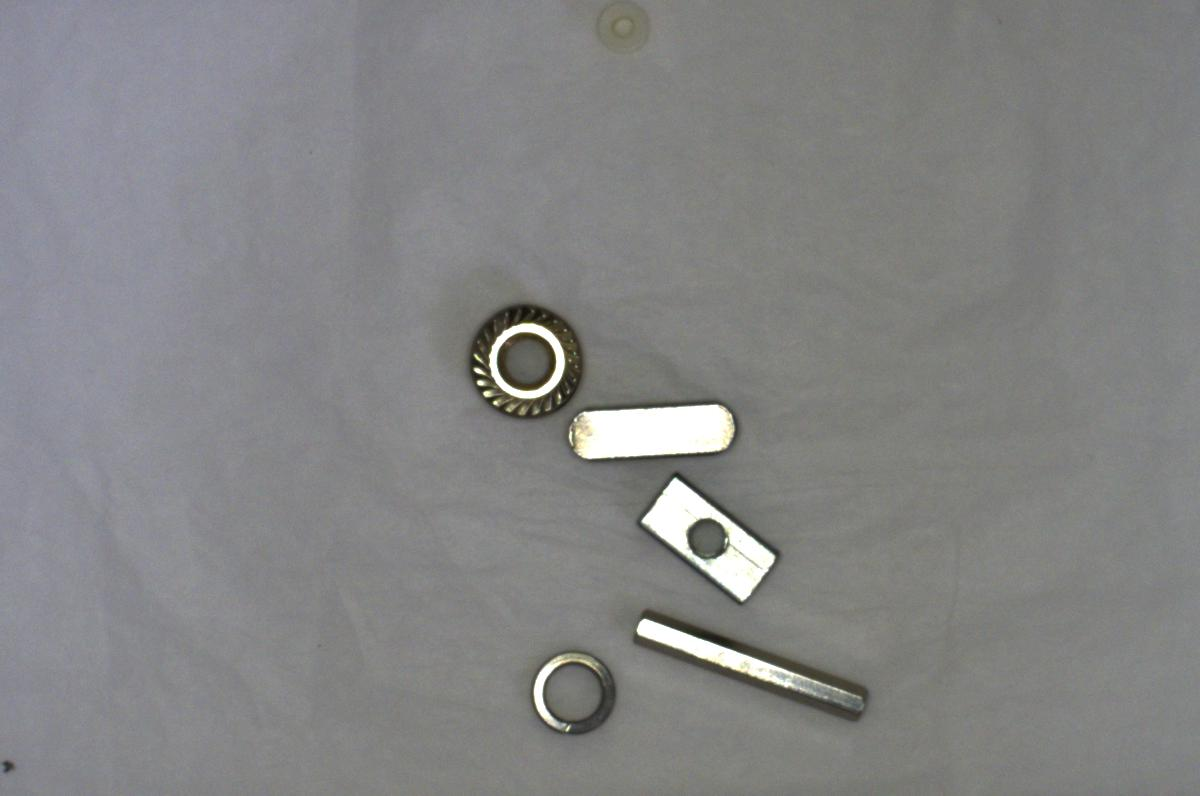Flange nut: (461, 296, 582, 423)
Keybar: (548, 396, 757, 463)
Plastic cushion pillar: (585, 1, 661, 63)
Rectangular nut: (641, 474, 787, 603)
Spring washer: (627, 609, 866, 729), (520, 646, 620, 747)
